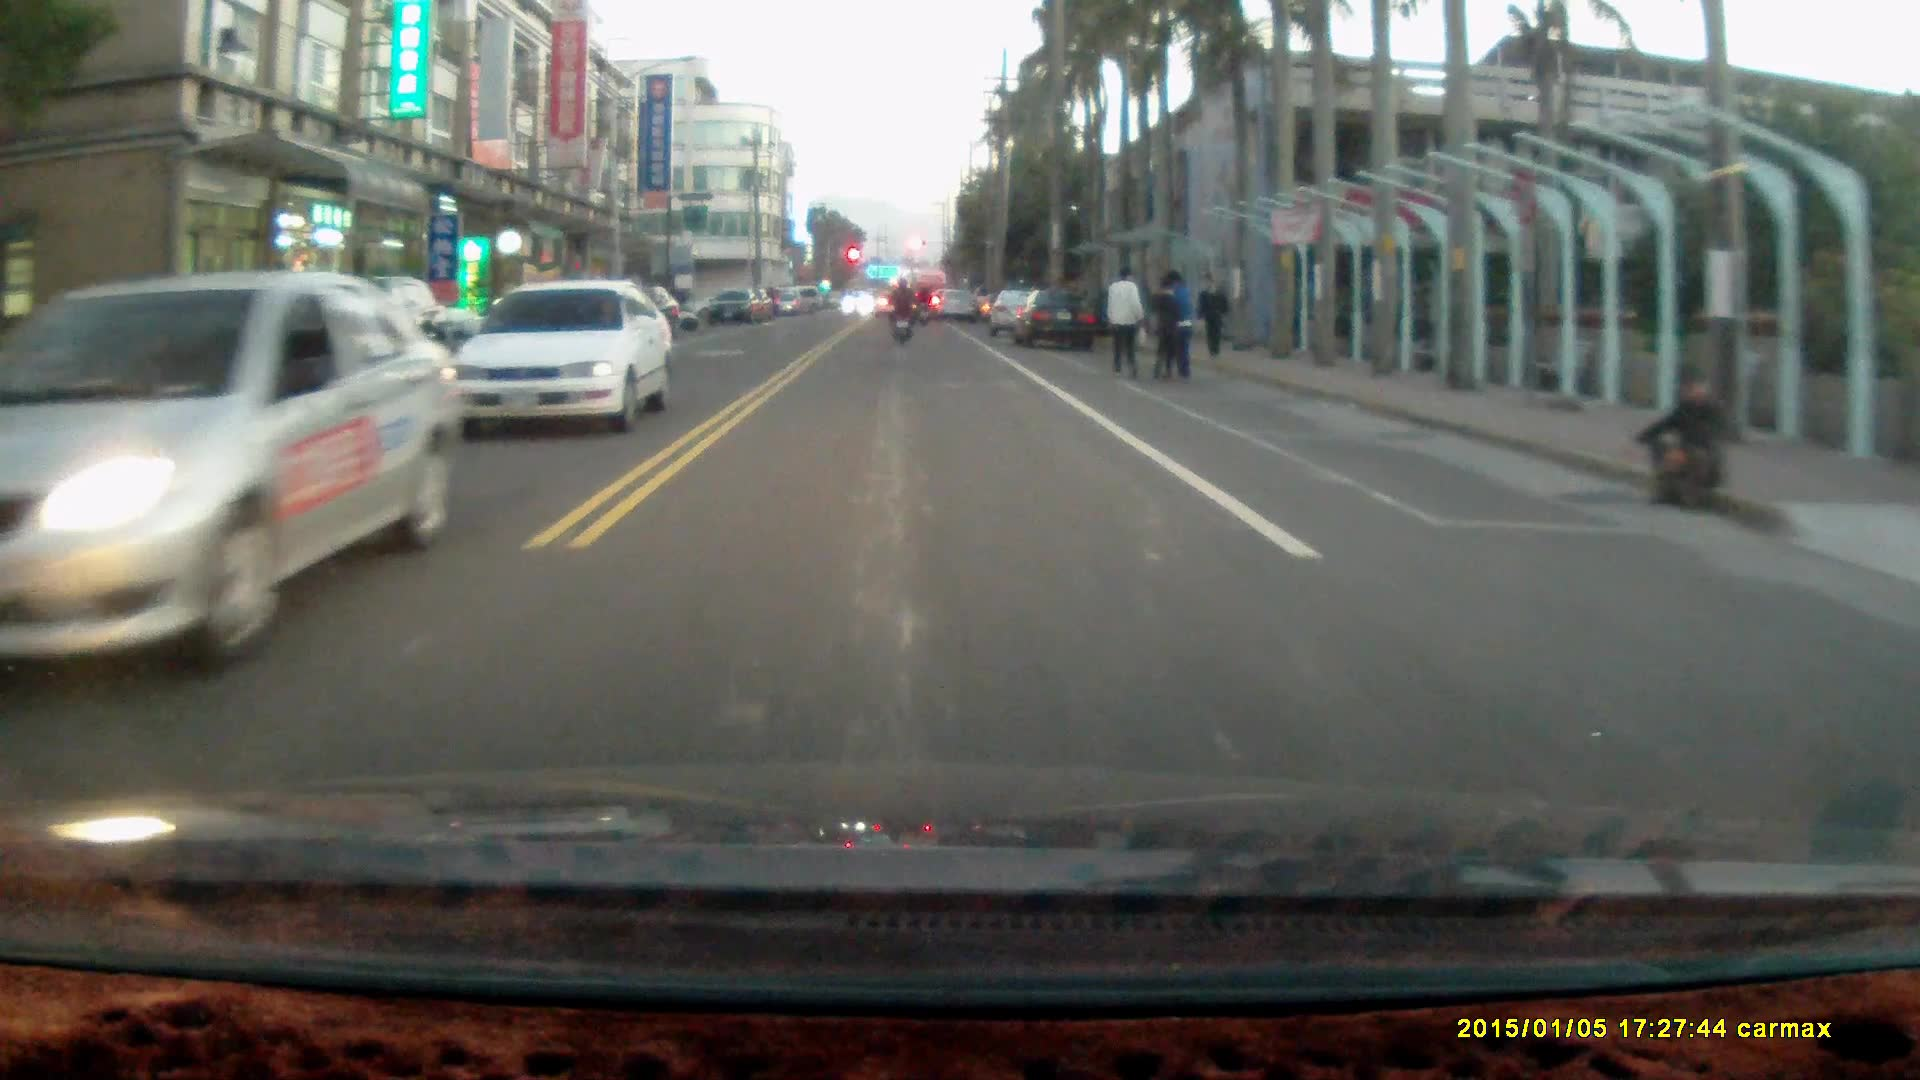pedestrian: (1631, 372, 1731, 511), (1151, 262, 1197, 381), (1104, 261, 1143, 380), (1147, 275, 1186, 383), (1196, 268, 1231, 359)
rider: (884, 276, 915, 348)
vehicle: (1, 269, 488, 684), (452, 279, 676, 429), (1010, 290, 1102, 348)
